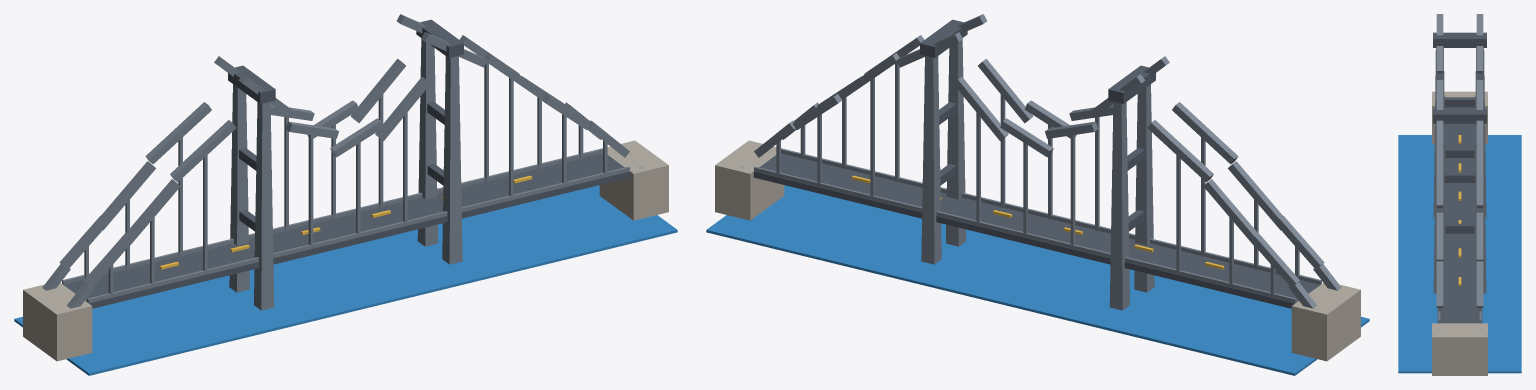
File: howrah-bridge.glb
3 views of the same model, side by side, from view 1: azimuth 30°, elevation 25°; view 2: azimuth 150°, elevation 25°; view 3: azimuth 270°, elevation 25° (orthographic). The views are drawn at different scales.
Visible parts, largest first — view 1: howrah-bridge; view 2: howrah-bridge; view 3: howrah-bridge.
Boxes of the visible parts, x1,y1,x2,y2 form: howrah-bridge: [14, 14, 677, 375]; howrah-bridge: [706, 14, 1369, 375]; howrah-bridge: [1398, 14, 1521, 375].
Bounding box in the file's own units: 10.77 × 4 × 2.28.
